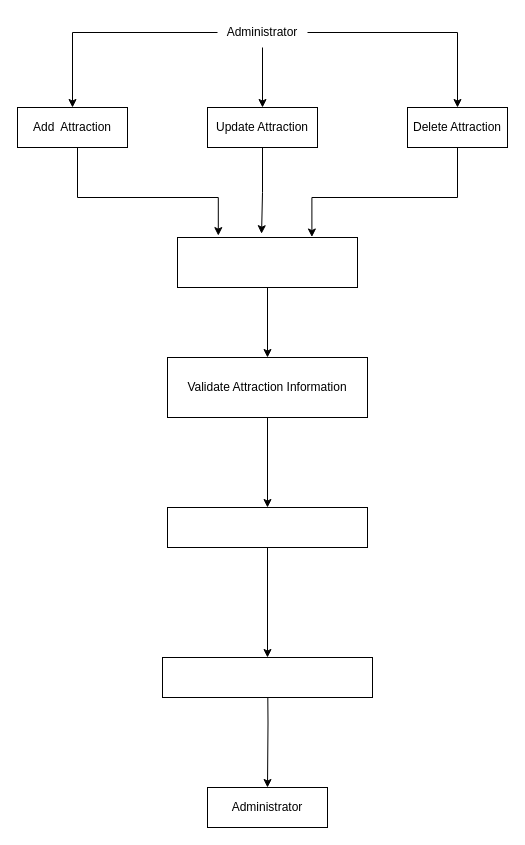
Some shapes in this 525 by 845 pixel diagram are drawn without their labels. The shapes that lost their labels are listed below. From the top down, each one's centre as x and y in pixels, then its label:
pixel 267 262: 1.1 Maintain Tourist Attractions
pixel 267 527: TOURIST_ATTRACTION Database
pixel 267 677: Confirmation Information
